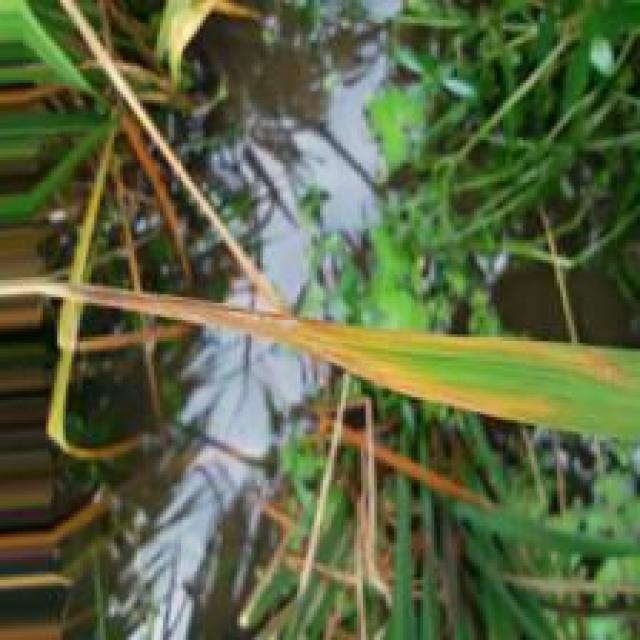Leaf_Scald: (0, 274, 640, 432)
